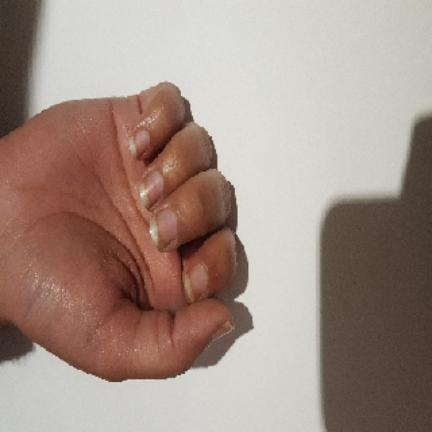Nail: (149, 210, 177, 250), (185, 262, 209, 302), (140, 171, 163, 208), (128, 129, 150, 159), (212, 320, 234, 343)
